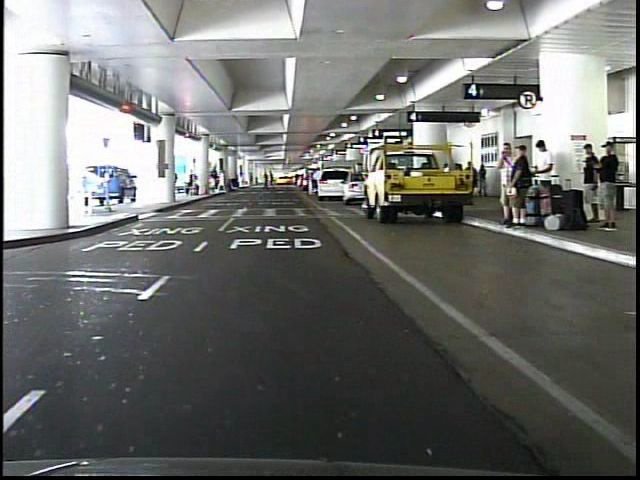person: (595, 140, 617, 230), (490, 141, 512, 223), (307, 165, 323, 199), (213, 164, 228, 198)
